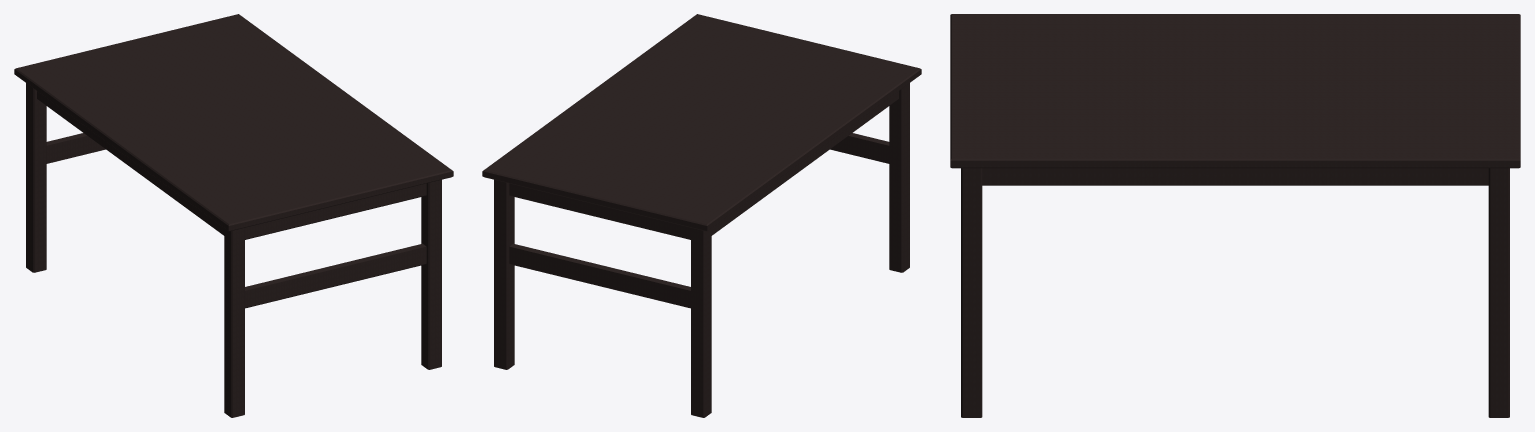
File: Table.fbx
3 views of the same model, side by side, from view 1: azimuth 30°, elevation 25°; view 2: azimuth 150°, elevation 25°; view 3: azimuth 270°, elevation 25° (orthographic). The views are drawn at different scales.
Parts seen in each view (by area): view 1: Table; view 2: Table; view 3: Table.
Boxes of the visible parts, box(x1,y1,x2,y2) form: Table: box(14, 14, 453, 417); Table: box(482, 14, 921, 417); Table: box(950, 14, 1520, 417).
Bounding box in the file's own units: 0.8585 × 0.7224 × 1.42.
